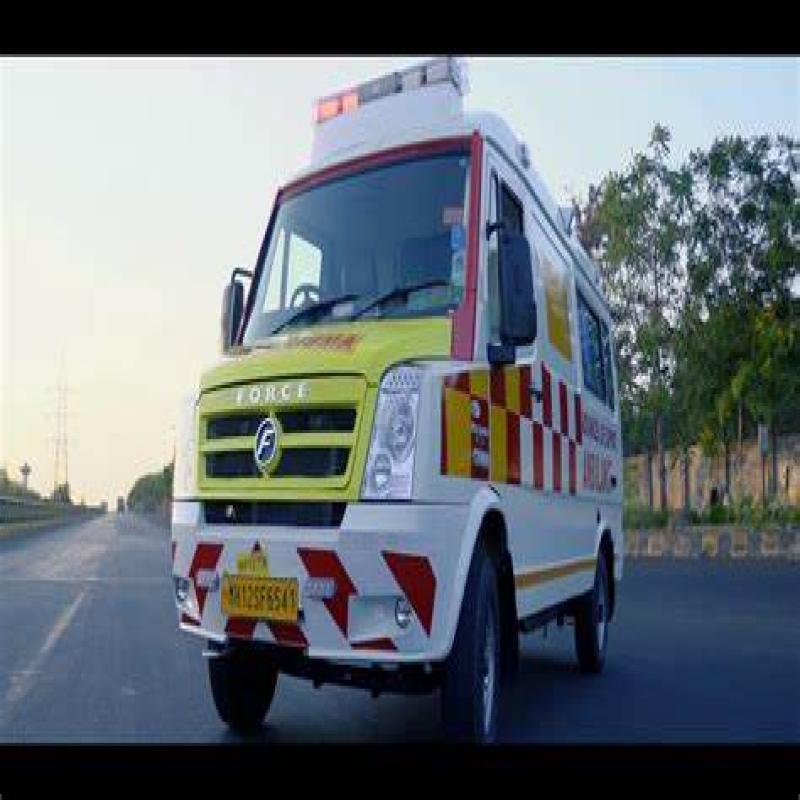AmbulanceSiren: (301, 52, 479, 144)
